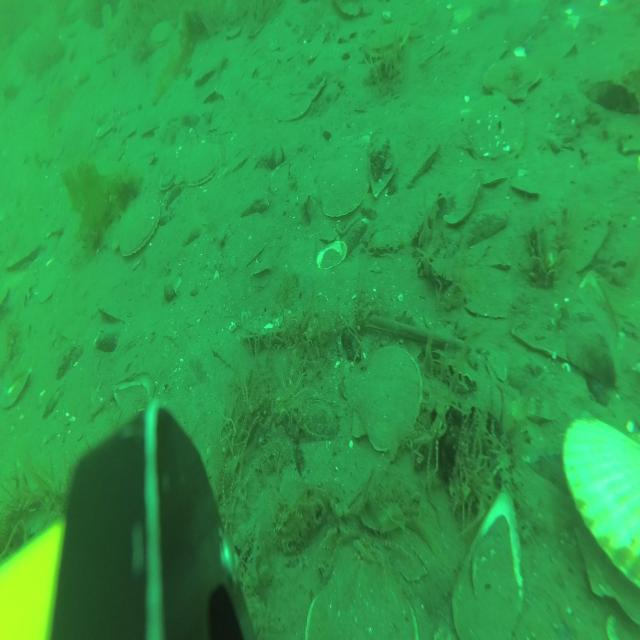scallop: (563, 401, 640, 630), (345, 340, 426, 462), (462, 86, 528, 166), (317, 139, 373, 220), (481, 51, 543, 102), (117, 201, 164, 264), (440, 156, 480, 228), (396, 128, 434, 191), (176, 140, 222, 189), (190, 44, 230, 89), (4, 236, 46, 277), (512, 166, 542, 201), (148, 20, 176, 50), (157, 167, 176, 198)
